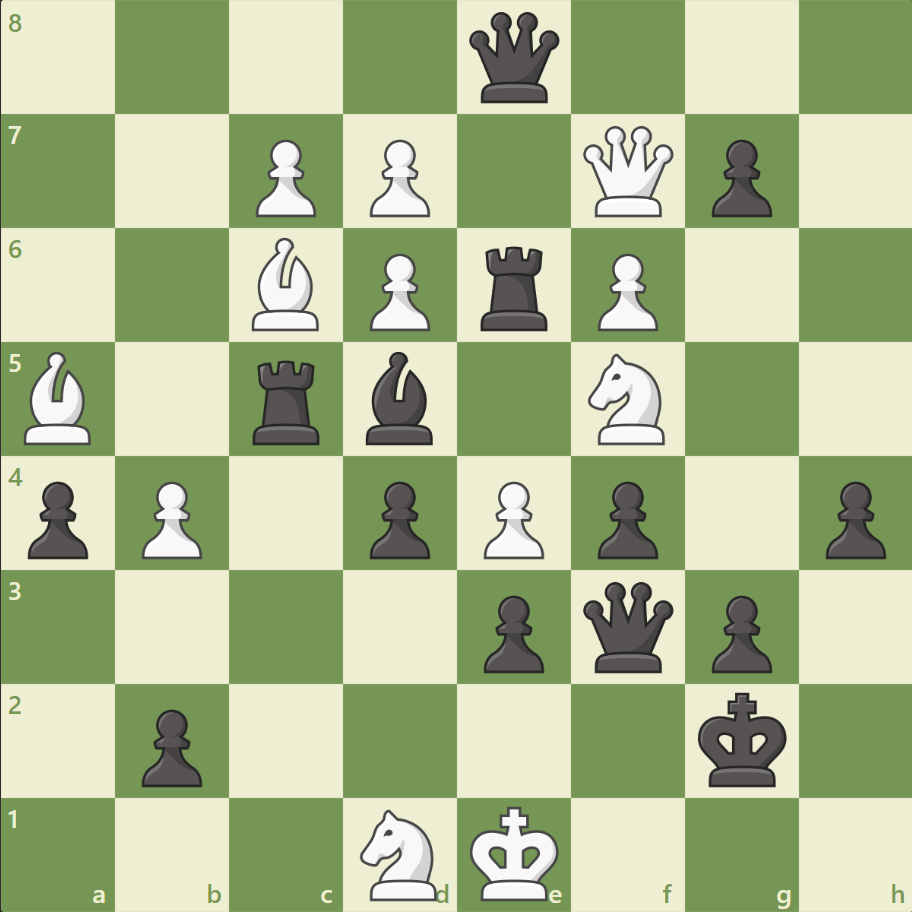B: (244, 233, 328, 336), (17, 347, 101, 449)
K: (465, 798, 565, 906)
N: (351, 802, 449, 904), (579, 348, 676, 450)
P: (247, 132, 322, 223), (133, 473, 208, 564), (474, 473, 549, 564), (361, 132, 435, 223), (361, 246, 435, 337), (588, 246, 662, 337)
Q: (578, 122, 677, 222)
b: (358, 347, 442, 449)
k: (692, 685, 792, 793)
p: (701, 132, 776, 223), (20, 473, 95, 564), (474, 586, 549, 677), (701, 586, 776, 677), (133, 700, 208, 791), (361, 473, 435, 564), (588, 473, 662, 564), (815, 473, 889, 564)
q: (578, 576, 677, 676), (464, 9, 563, 108)
r: (473, 239, 556, 336), (246, 352, 329, 449)
